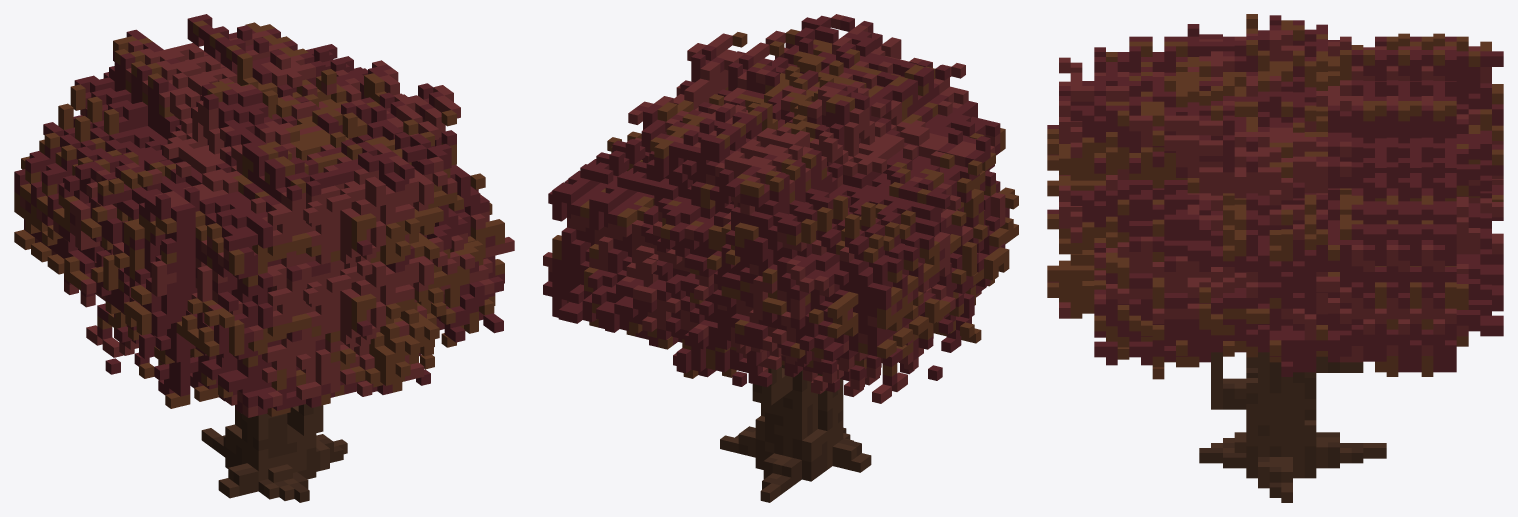
Rendered from Hospital-32.obj.
3 views of the same model, side by side, from view 1: azimuth 30°, elevation 25°; view 2: azimuth 150°, elevation 25°; view 3: azimuth 270°, elevation 25° (orthographic). The views are drawn at different scales.
Size of the model in its own units: 3.7 by 3.9 by 3.9.
1 material, 1 textured.
